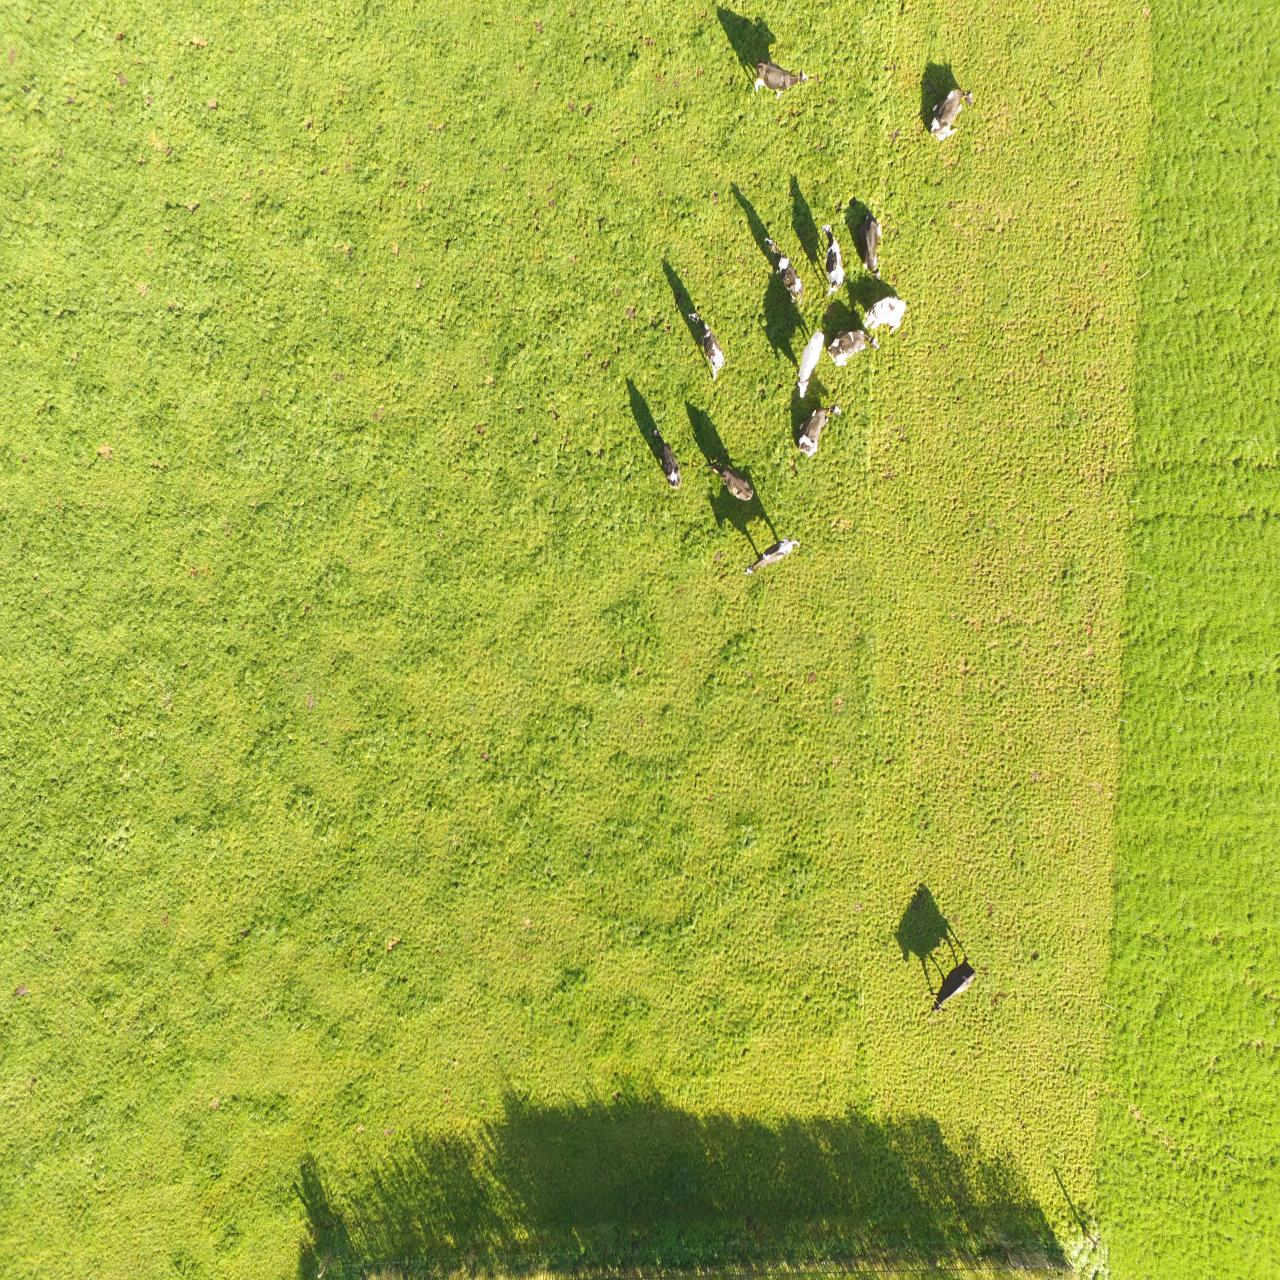cow: (794, 397, 847, 456), (928, 953, 978, 1012), (686, 311, 728, 379), (740, 535, 803, 579), (926, 83, 971, 144), (795, 324, 828, 400), (745, 59, 806, 100), (764, 237, 802, 299), (708, 457, 757, 501), (855, 213, 884, 286), (825, 332, 885, 367), (651, 428, 682, 489), (821, 222, 846, 294), (859, 293, 910, 329)
